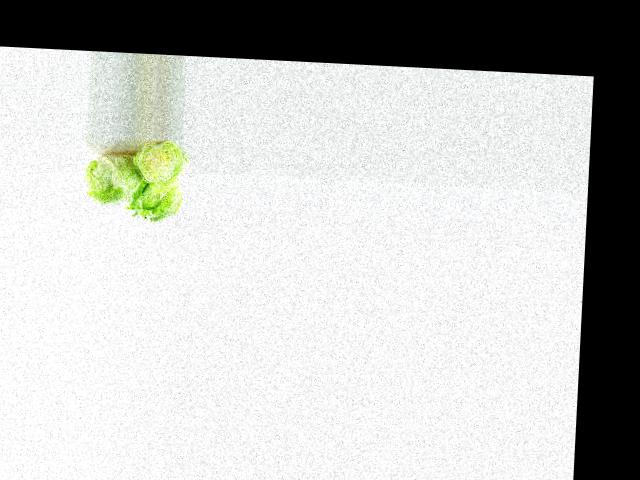lettuce: (122, 176, 185, 228)
